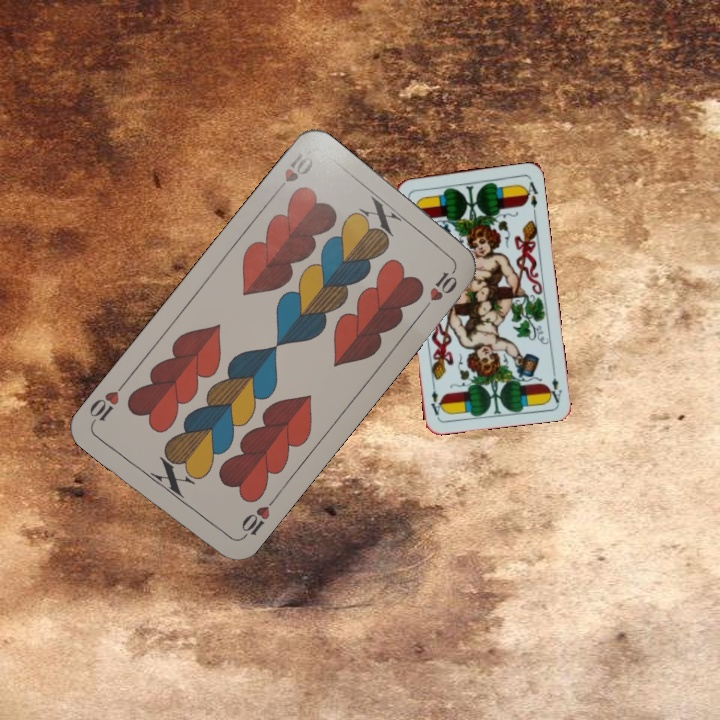EA: (544, 364, 564, 405)
H10: (271, 148, 316, 198), (236, 494, 279, 543)
